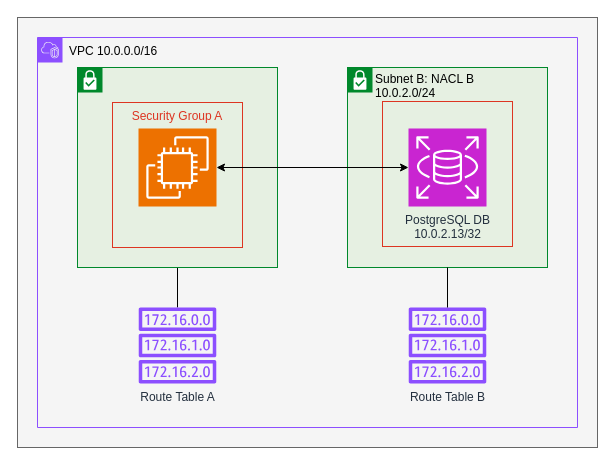
Some shapes in this 615 by 465 pixel diagram are drawn without their labels. The shapes that lost their labels are listed below. From the top down, each one's box as (x1, y1, x2, y2) in pixels, then its label:
(138, 128, 216, 206): App Server 10.0.1.67/32
(76, 66, 278, 268): Subnet A: NACL A 10.0.1.0/24
(382, 100, 512, 246): Security Group B
